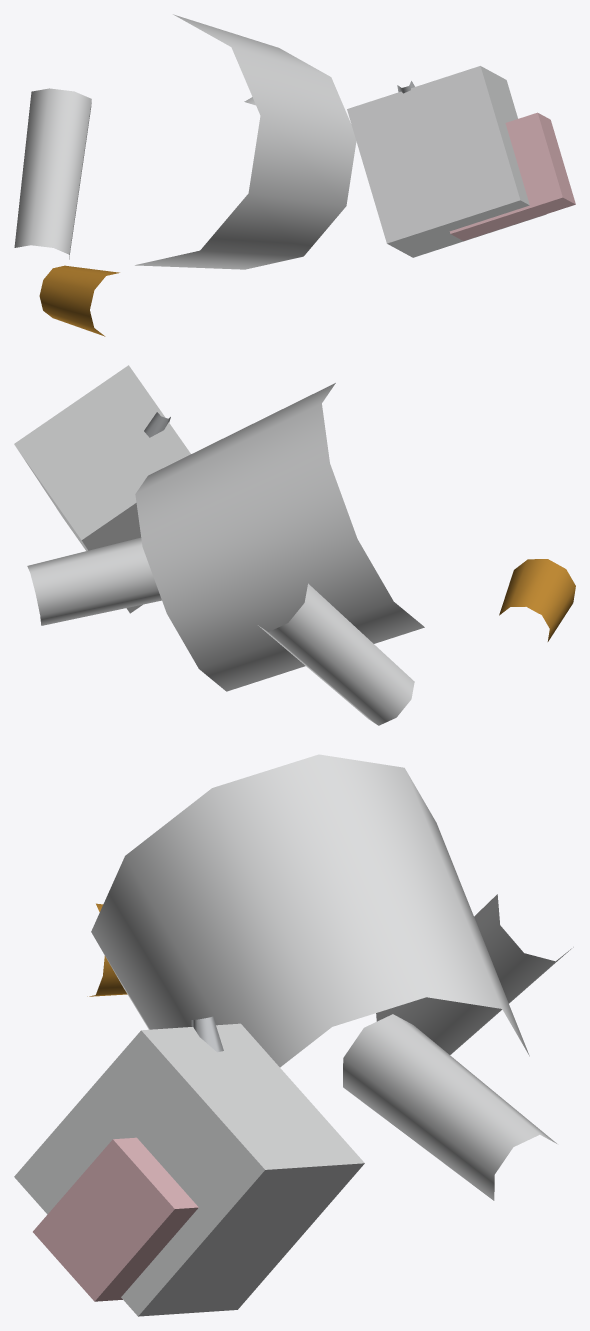
The model's file is cow-17-wreck.glb.
3 views of the same model, one above another, from view 1: azimuth 30°, elevation 25°; view 2: azimuth 150°, elevation 25°; view 3: azimuth 270°, elevation 25° (orthographic). The views are drawn at different scales.
Visible parts, largest first — view 1: Root; view 2: Root; view 3: Root.
Boxes of the visible parts, box(x1,y1,x2,y2) form: Root: box(14, 14, 575, 336); Root: box(14, 365, 575, 725); Root: box(14, 754, 573, 1316).
Bounding box in the file's own units: 3.9 × 2.04 × 2.57.
